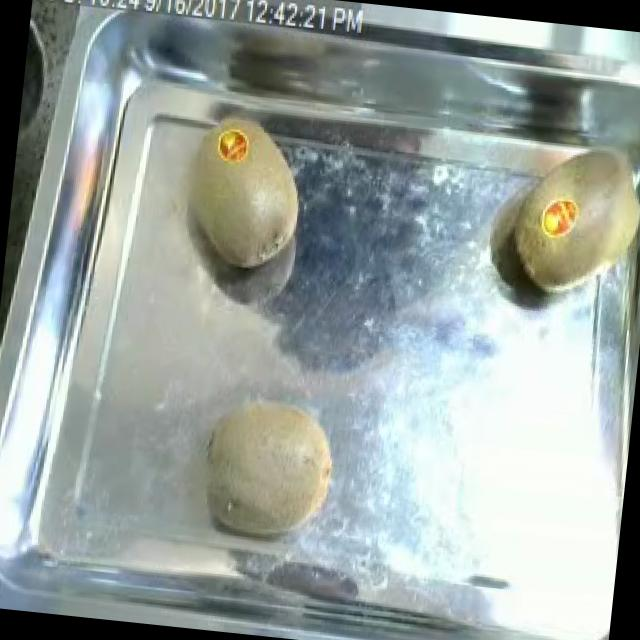Fruit: (184, 378, 351, 558), (166, 101, 320, 285), (491, 127, 640, 313)
